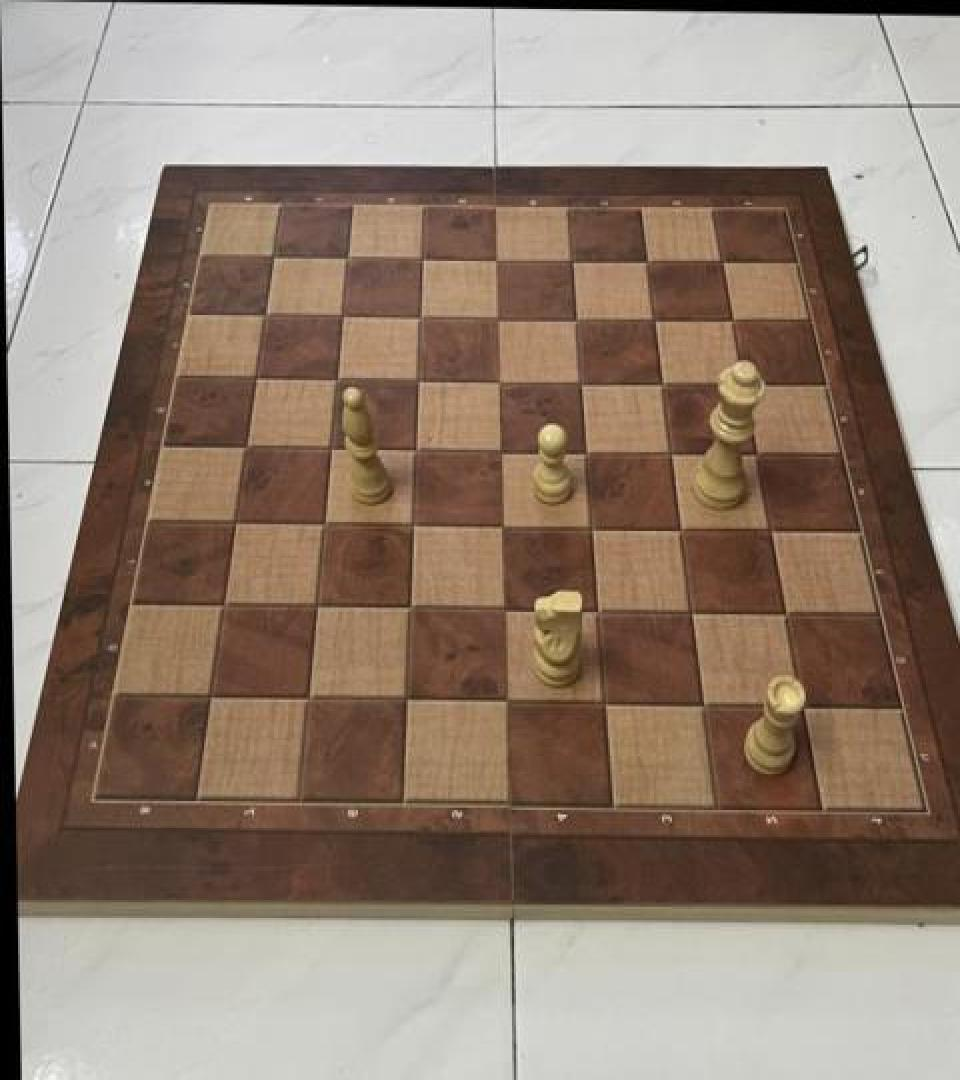xcorner: (256, 238, 290, 276), (330, 238, 364, 276), (404, 238, 438, 276), (478, 240, 512, 278), (553, 240, 587, 278), (628, 240, 662, 278), (703, 241, 737, 279), (248, 296, 282, 334), (325, 296, 359, 334), (402, 297, 436, 335), (479, 297, 513, 335), (557, 298, 591, 336), (635, 298, 669, 336), (713, 300, 747, 338), (239, 359, 273, 397), (319, 359, 353, 397), (399, 360, 433, 398), (480, 361, 514, 399), (561, 361, 595, 399), (642, 362, 676, 400), (724, 362, 758, 400), (229, 428, 263, 466), (313, 428, 347, 466), (397, 429, 431, 467), (481, 430, 515, 468), (566, 431, 600, 469), (651, 431, 685, 469), (736, 432, 770, 470), (218, 502, 252, 540), (306, 503, 340, 541), (394, 504, 428, 542), (482, 505, 516, 543), (571, 506, 605, 544), (750, 508, 784, 546), (206, 584, 240, 622), (298, 586, 332, 624), (390, 588, 424, 626), (483, 588, 517, 626), (576, 590, 610, 628), (670, 591, 704, 629), (764, 593, 798, 631), (193, 675, 227, 713), (290, 678, 324, 716), (387, 678, 421, 716), (485, 681, 519, 719), (583, 682, 617, 720), (681, 684, 715, 722), (781, 685, 815, 723), (660, 508, 694, 545)
